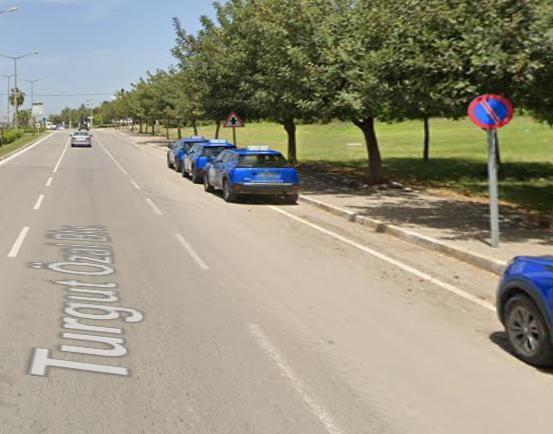nopark: (470, 91, 515, 132)
